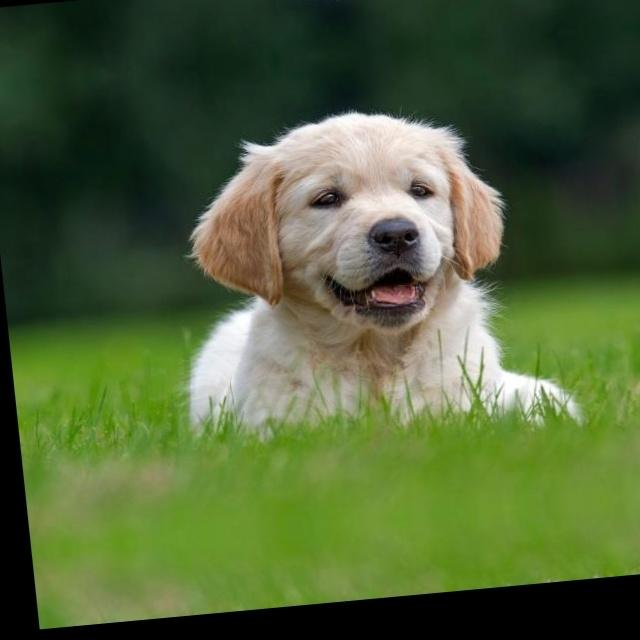dog: (170, 75, 543, 371), (158, 0, 507, 34)
